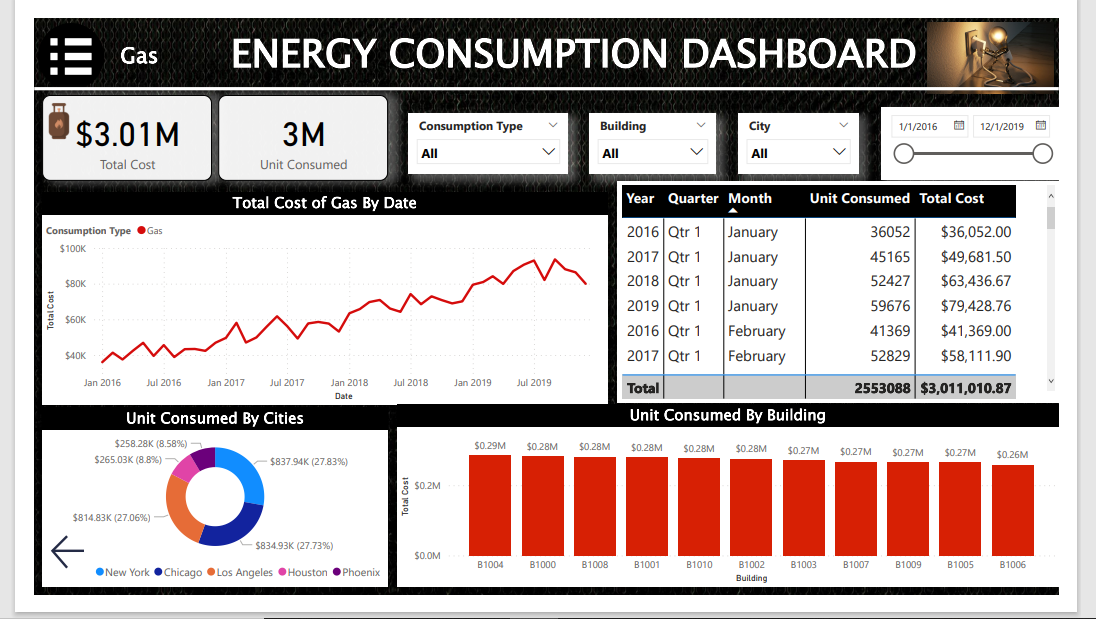

This screenshot's page, from the dashboard's own definition file:
{"tool":"powerbi","page":{"name":"Gas","canvas":[1280,720],"ordinal":3},"visuals":[{"type":"card","fields":{"Values":["Energy Consumptions.Total Cost"]},"box":[9.6,96.3,212,107.4],"z":0,"group":"g1"},{"type":"image","box":[1110.3,0,169.7,99.1],"z":0},{"type":"image","box":[0,0,92.4,95.7],"z":1000},{"type":"card","fields":{"Values":["Energy Consumptions.Unit Consumed"]},"box":[229.8,96.3,212,107.4],"z":1000,"group":"g1"},{"type":"textbox","box":[42.7,22,177.5,77.1],"z":2000},{"type":"slicer","fields":{"Values":["Energy Consumptions.Consumption Type"]},"box":[467.9,119.7,198.2,74.3],"z":2000,"group":"g1"},{"type":"slicer","fields":{"Values":["Energy Consumptions.Building"]},"box":[693.6,119.7,158.3,74.3],"z":3000,"group":"g1"},{"type":"shape","box":[0,77.1,1280,22],"z":3000},{"type":"textbox","box":[154.5,3.4,1038.1,95.7],"z":4000},{"type":"slicer","fields":{"Values":["Building Master.City"]},"box":[879.4,119.7,150,74.3],"z":4000,"group":"g1"},{"type":"slicer","fields":{"Values":["Energy Consumptions.Date"]},"box":[1058.1,110.8,222,92],"z":5000,"group":"g1"},{"type":"lineChart","title":"Total Cost of Gas By Date","fields":{"Category":["Energy Consumptions.Date"],"Series":["Energy Consumptions.Consumption Type"],"Y":["Energy Consumptions.Total Cost"]},"box":[9.6,217.5,706.1,264.3],"z":5000},{"type":"group","id":"g1","title":"Group 1","box":[9.6,96.3,1270.4,107.4],"z":6000},{"type":"donutChart","title":"Unit Consumed By Cities","fields":{"Category":["Building Master.City"],"Y":["Energy Consumptions.Total Cost"]},"box":[9.6,485.8,432.2,224.3],"z":7000},{"type":"clusteredColumnChart","title":"Unit Consumed By Building","fields":{"Category":["Energy Consumptions.Building"],"Y":["Energy Consumptions.Total Cost"]},"box":[452.8,481.7,827.2,228.5],"z":8000},{"type":"tableEx","fields":{"Values":["Energy Consumptions.Date.Variation.Date Hierarchy.Year","Energy Consumptions.Date.Variation.Date Hierarchy.Quarter","Energy Consumptions.Date.Variation.Date Hierarchy.Month","Energy Consumptions.Unit Consumed","Energy Consumptions.Total Cost"]},"box":[729.5,203.7,550.5,276.6],"z":9000},{"type":"actionButton","box":[0,9.3,89.3,76],"z":10000},{"type":"image","box":[0,98.7,61.3,58.7],"z":11000},{"type":"actionButton","box":[16,640,54.7,53.3],"z":13000}]}

Visuals, with their boxes in screenshot pixels (x1, y1, x2, y2), scaled from the page's 1280x720 canvas onto the 1096x619 screenshot:
card - Energy Consumptions.Total Cost: Rect(8, 83, 190, 175)
image: Rect(951, 0, 1095, 85)
image: Rect(0, 0, 79, 82)
card - Energy Consumptions.Unit Consumed: Rect(197, 83, 378, 175)
textbox: Rect(37, 19, 189, 85)
slicer - Energy Consumptions.Consumption Type: Rect(401, 103, 570, 167)
slicer - Energy Consumptions.Building: Rect(594, 103, 729, 167)
shape: Rect(0, 66, 1095, 85)
textbox: Rect(132, 3, 1021, 85)
slicer - Building Master.City: Rect(753, 103, 881, 167)
slicer - Energy Consumptions.Date: Rect(906, 95, 1095, 174)
"Total Cost of Gas By Date" lineChart: Rect(8, 187, 613, 414)
"Group 1" group: Rect(8, 83, 1095, 175)
"Unit Consumed By Cities" donutChart: Rect(8, 418, 378, 610)
"Unit Consumed By Building" clusteredColumnChart: Rect(388, 414, 1095, 611)
tableEx - Energy Consumptions.Date.Variation.Date Hierarchy.Year x Energy Consumptions.Date.Variation.Date Hierarchy.Quarter: Rect(625, 175, 1095, 413)
actionButton: Rect(0, 8, 76, 73)
image: Rect(0, 85, 52, 135)
actionButton: Rect(14, 550, 61, 596)
